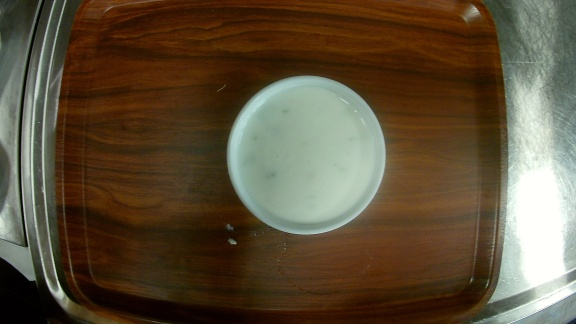cacik: (226, 74, 388, 234)
